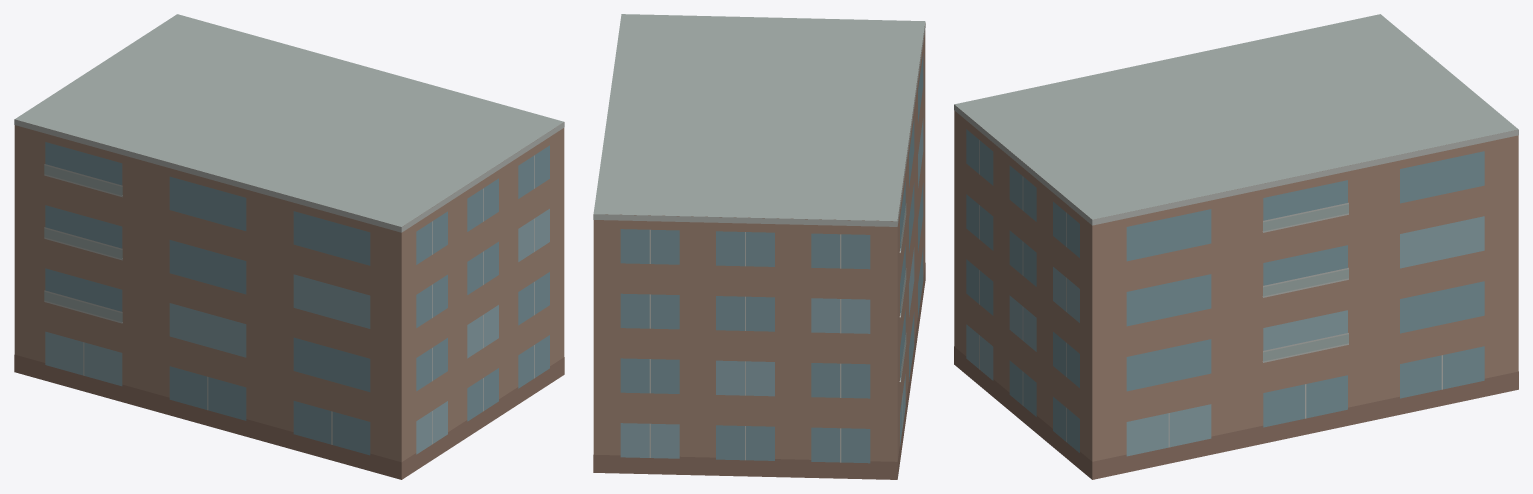
Rendered from survey-upis-32910628.glb.
3 renders of one model, left to right at view 1: azimuth 30°, elevation 25°; view 2: azimuth 150°, elevation 25°; view 3: azimuth 270°, elevation 25°, orthographic. The views are drawn at different scales.
Parts seen in each view (by area): view 1: survey-upis-32910628.tmp; view 2: survey-upis-32910628.tmp; view 3: survey-upis-32910628.tmp.
Boxes of the visible parts, x1=… form: survey-upis-32910628.tmp: x1=14, y1=14, x2=564, y2=479; survey-upis-32910628.tmp: x1=593, y1=14, x2=925, y2=479; survey-upis-32910628.tmp: x1=954, y1=14, x2=1518, y2=479.
Size of the model in its own units: 18.5 by 10.9 by 21.45.
